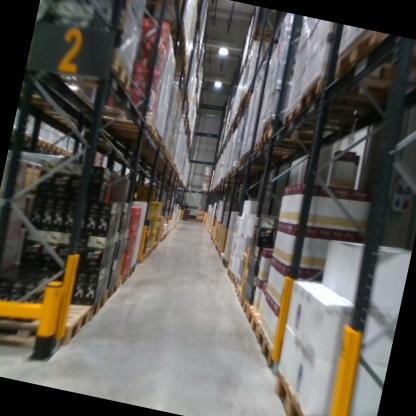pallet: (296, 62, 407, 142), (0, 285, 91, 362), (330, 25, 416, 94), (68, 37, 143, 97), (264, 363, 339, 416), (91, 95, 160, 136), (259, 122, 331, 161), (252, 130, 319, 169), (278, 98, 340, 139), (250, 325, 282, 370), (243, 306, 268, 339), (242, 148, 279, 169), (238, 154, 278, 172), (86, 288, 106, 322), (135, 0, 187, 13), (237, 292, 261, 317), (248, 25, 277, 44), (100, 278, 118, 306), (19, 131, 44, 150), (111, 269, 128, 290), (238, 87, 257, 104), (123, 261, 138, 282), (135, 249, 148, 265), (233, 282, 245, 299), (38, 137, 50, 152), (224, 266, 235, 282), (47, 141, 60, 154), (56, 143, 67, 155), (221, 258, 231, 270), (231, 275, 240, 288), (218, 251, 227, 264), (181, 216, 189, 222), (200, 188, 208, 194), (195, 218, 202, 224), (188, 218, 195, 223)
